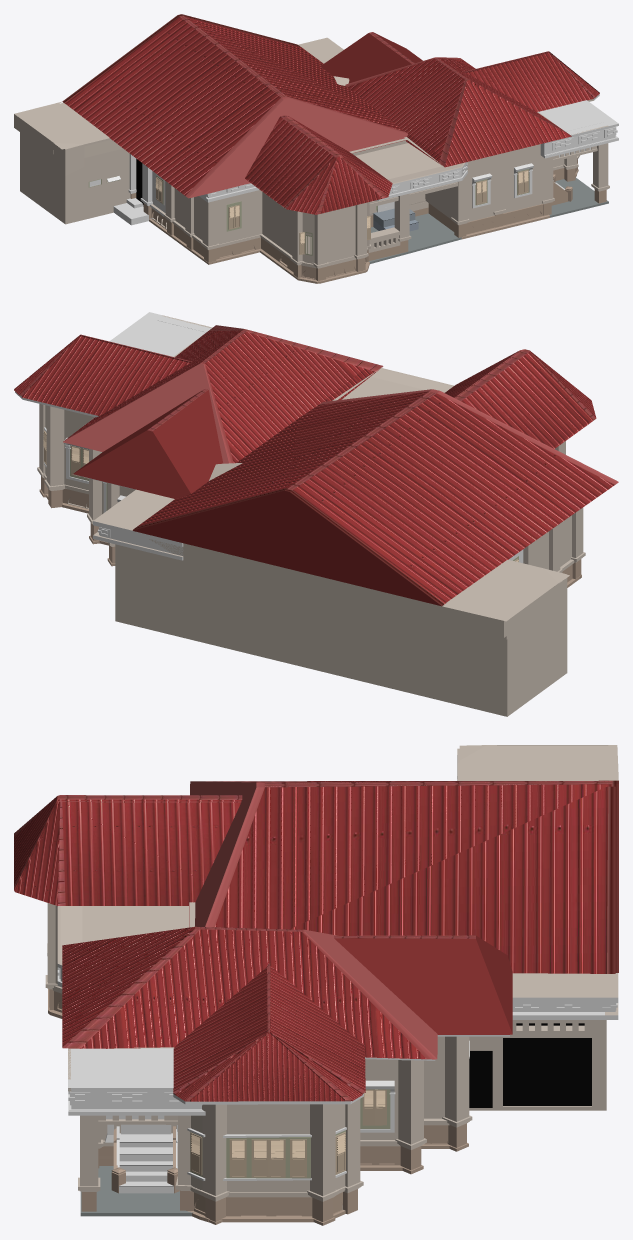
File: rumahsultantesseng4.fbx
The picture shows the model from 3 angles, top to bottom: view 1: azimuth 30°, elevation 25°; view 2: azimuth 150°, elevation 25°; view 3: azimuth 270°, elevation 25°; orthographic projection. The views are drawn at different scales.
Visible parts, largest first — view 1: Cube.026, Cube, Cube.050, Cube.048, Cube.003, Cube.009, Cube.028, Cube.058, Cube.010, Cube.008, Cube.059, Cube.007 (+5 smaller); view 2: Cube.026, Cube, Cube.108, Cube.050, Cube.004, Cube.002; view 3: Cube.026, Cube, Cube.002, Cube.004, Cube.006, Cube.005, Cube.003, Cube.108, Cube.001, Cube.070, Cube.058, Cube.012 (+6 smaller).
Part boxes in pixels (left/top/right/bottom): Cube.026: left=14, top=14, right=599, bottom=214; Cube: left=20, top=15, right=618, bottom=283; Cube.050: left=201, top=199, right=219, bottom=262; Cube.048: left=312, top=212, right=328, bottom=281; Cube.003: left=591, top=143, right=609, bottom=203; Cube.009: left=451, top=162, right=469, bottom=237; Cube.028: left=368, top=227, right=400, bottom=260; Cube.058: left=354, top=202, right=368, bottom=271; Cube.010: left=394, top=193, right=411, bottom=253; Cube.008: left=493, top=153, right=506, bottom=227; Cube.059: left=290, top=210, right=306, bottom=277; Cube.007: left=542, top=156, right=554, bottom=215; Cube.026: left=14, top=325, right=618, bottom=639; Cube: left=15, top=312, right=581, bottom=716; Cube.108: left=44, top=405, right=66, bottom=508; Cube.050: left=571, top=507, right=585, bottom=579; Cube.004: left=87, top=449, right=101, bottom=544; Cube.002: left=37, top=404, right=48, bottom=497; Cube.026: left=14, top=745, right=618, bottom=1101; Cube: left=14, top=748, right=618, bottom=1222; Cube.002: left=307, top=1104, right=338, bottom=1225; Cube.004: left=395, top=1060, right=426, bottom=1174; Cube.006: left=199, top=1104, right=229, bottom=1224; Cube.005: left=442, top=1036, right=472, bottom=1151; Cube.003: left=78, top=1115, right=100, bottom=1211; Cube.108: left=343, top=1099, right=363, bottom=1214; Cube.001: left=175, top=1115, right=193, bottom=1210; Cube.070: left=226, top=1137, right=310, bottom=1178; Cube.058: left=45, top=903, right=57, bottom=1009; Cube.012: left=119, top=1147, right=172, bottom=1161.
Size of the model in its own units: 1594 by 449 by 1116.
Materials: 38 (18 with a texture image).
